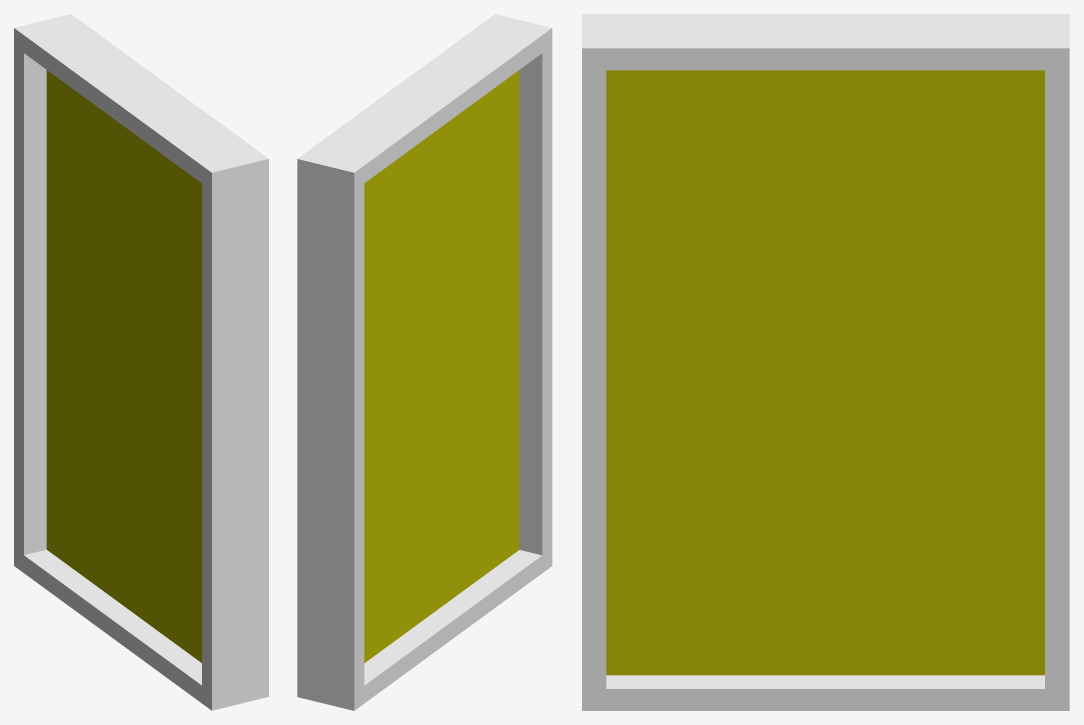
File: ventana_bano_60x90.obj
3 views of the same model, side by side, from view 1: azimuth 30°, elevation 25°; view 2: azimuth 150°, elevation 25°; view 3: azimuth 270°, elevation 25° (orthographic). The views are drawn at different scales.
Parts seen in each view (by area): view 1: Mesh2 Panel_de_sistema___Acristalado_212329__3D_1 ventana_ba_o_0, Mesh3 ventana_ba_o_0_60_x_0_90_dwg1 Model; view 2: Mesh3 ventana_ba_o_0_60_x_0_90_dwg1 Model, Mesh2 Panel_de_sistema___Acristalado_212329__3D_1 ventana_ba_o_0; view 3: Mesh2 Panel_de_sistema___Acristalado_212329__3D_1 ventana_ba_o_0, Mesh3 ventana_ba_o_0_60_x_0_90_dwg1 Model.
Boxes of the visible parts, left/top/right/bottom form: Mesh2 Panel_de_sistema___Acristalado_212329__3D_1 ventana_ba_o_0: left=46, top=70, right=201, bottom=662; Mesh3 ventana_ba_o_0_60_x_0_90_dwg1 Model: left=14, top=14, right=268, bottom=710; Mesh3 ventana_ba_o_0_60_x_0_90_dwg1 Model: left=297, top=14, right=552, bottom=710; Mesh2 Panel_de_sistema___Acristalado_212329__3D_1 ventana_ba_o_0: left=364, top=70, right=519, bottom=662; Mesh2 Panel_de_sistema___Acristalado_212329__3D_1 ventana_ba_o_0: left=606, top=70, right=1044, bottom=675; Mesh3 ventana_ba_o_0_60_x_0_90_dwg1 Model: left=582, top=14, right=1069, bottom=710.
Size of the model in its own units: 101 by 900 by 601.
